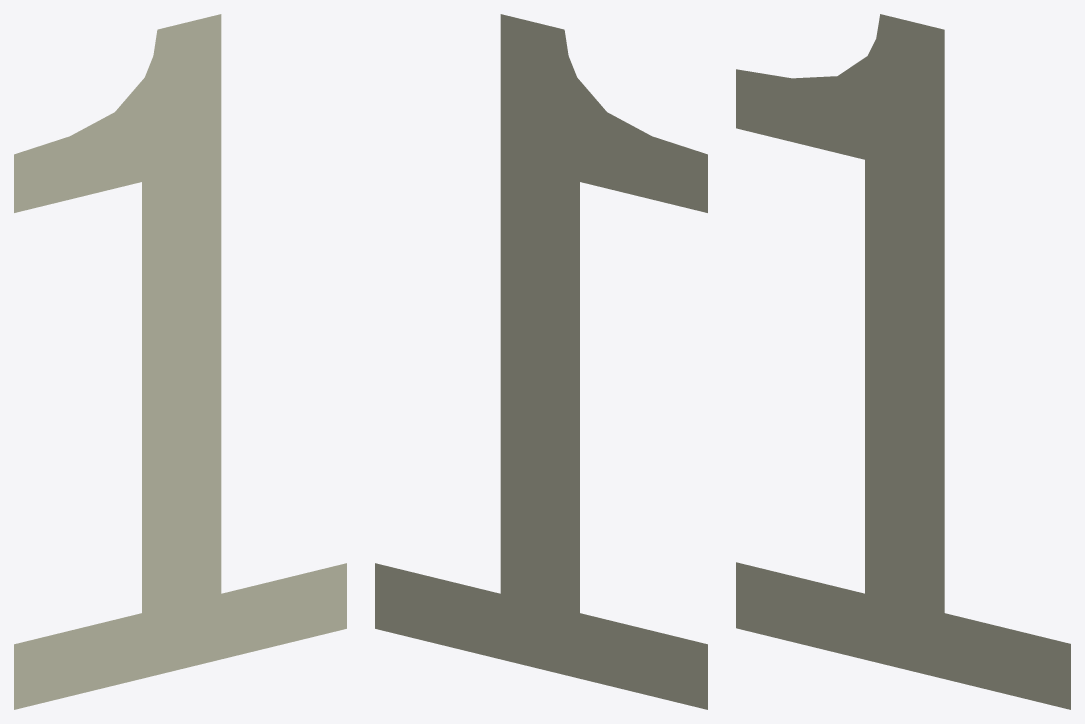
Rendered from original-93.obj.
3 renders of one model, left to right at view 1: azimuth 30°, elevation 25°; view 2: azimuth 150°, elevation 25°; view 3: azimuth 330°, elevation 25°, orthographic.
Visible parts, largest first — view 1: _1_1/_1/mesh84/mesh84-geometry#mesh84-geometry; view 2: _1_1/_1/mesh84/mesh84-geometry#mesh84-geometry; view 3: _1_1/_1/mesh84/mesh84-geometry#mesh84-geometry.
Boxes of the visible parts, x1,y1,x2,y2 form: _1_1/_1/mesh84/mesh84-geometry#mesh84-geometry: (14, 14, 346, 709); _1_1/_1/mesh84/mesh84-geometry#mesh84-geometry: (375, 14, 707, 709); _1_1/_1/mesh84/mesh84-geometry#mesh84-geometry: (736, 14, 1070, 709).
Bounding box in the file's own units: 0.0179 × 0.0331 × 0.
